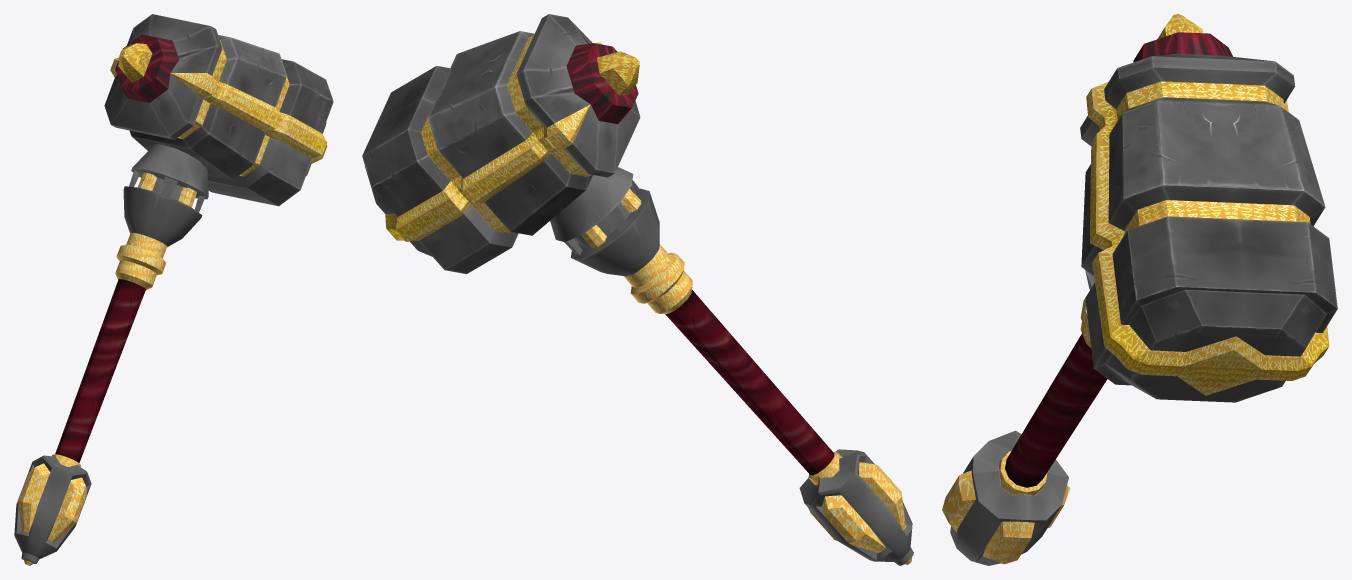
The model's file is hammer_golden_01.glb.
3 renders of one model, left to right at view 1: azimuth 30°, elevation 25°; view 2: azimuth 150°, elevation 25°; view 3: azimuth 270°, elevation 25°, orthographic. The views are drawn at different scales.
Parts seen in each view (by area): view 1: Hammer_ModelMain_0; view 2: Hammer_ModelMain_0; view 3: Hammer_ModelMain_0.
Boxes of the visible parts, left/top/right/bottom form: Hammer_ModelMain_0: left=14, top=14, right=333, bottom=565; Hammer_ModelMain_0: left=362, top=14, right=913, bottom=565; Hammer_ModelMain_0: left=942, top=14, right=1337, bottom=565.
Bounding box in the file's own units: 23.96 × 27.29 × 14.42.
1 material, 1 textured.
